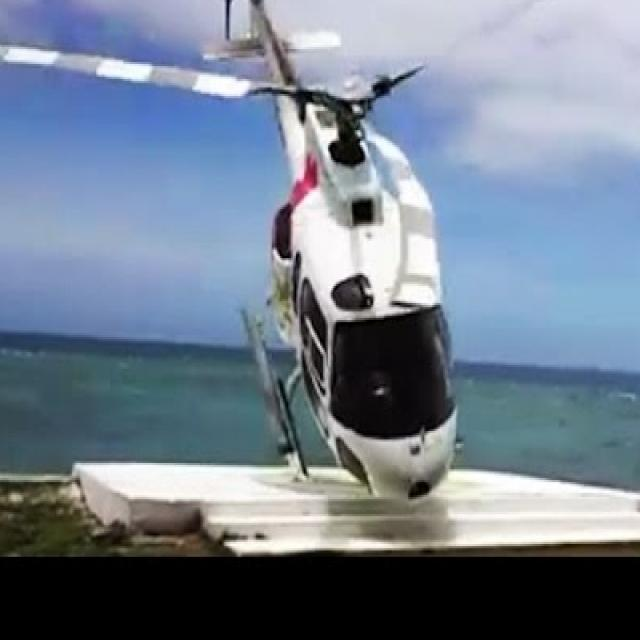helicopter: (1, 1, 476, 504)
